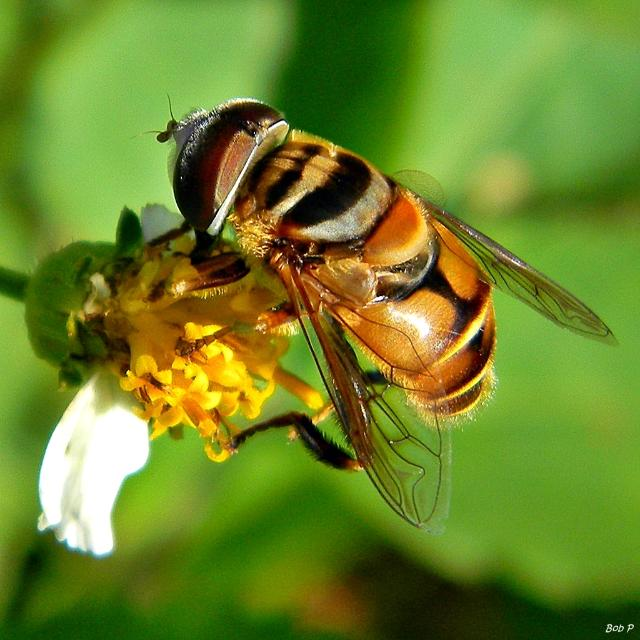Flower: (44, 250, 290, 562)
